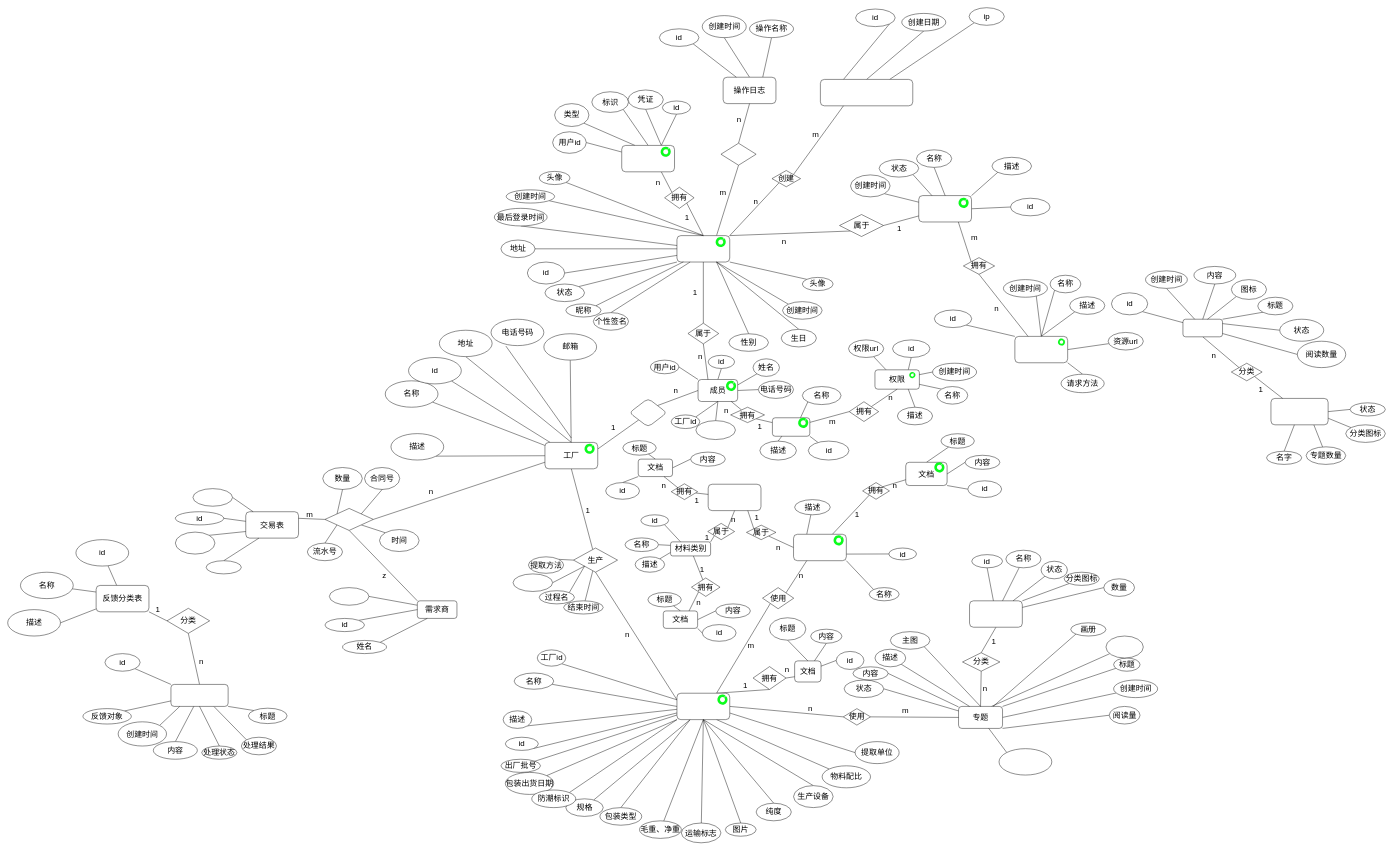
This 1393x851 diagram has some shape labels left out. The shapes that lost their labels are listed below. From the top down, each one's box as (x1, y1, x2, y2) in pixels, then its label:
(820, 79, 913, 106): 后台用户登录日志表
(621, 145, 675, 172): 认证信息
(720, 143, 756, 165): 生成
(918, 195, 972, 222): 角色
(676, 235, 730, 262): 用户
(1182, 319, 1223, 337): 帮助表
(1014, 336, 1068, 363): 资源
(629, 398, 667, 427): 设置
(695, 420, 735, 440): 职位id
(772, 417, 810, 436): 职位
(1270, 398, 1328, 425): 帮助分类表
(192, 488, 233, 506): 生成时间
(708, 484, 761, 511): 材料二次类别
(324, 508, 373, 530): 交易
(175, 532, 215, 554): 交易金额
(793, 534, 846, 561): 材料
(206, 560, 241, 574): 备注
(513, 573, 553, 591): 开始时间
(329, 587, 369, 605): 联系方式
(969, 600, 1022, 627): 专题分类
(1106, 636, 1143, 658): 分类名称
(170, 684, 228, 706): 用户反馈表
(676, 693, 730, 720): 打包产品
(999, 748, 1052, 775): 排序
